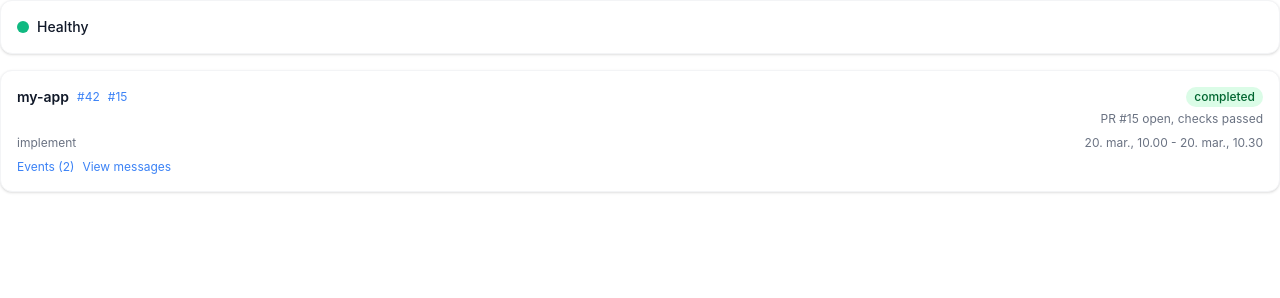
Test case: SchedulerTab › shows event timeline when events button is clicked
Click the button with test id "toggle-events" at (46, 167), box x1=17 y1=159 x2=74 y2=175
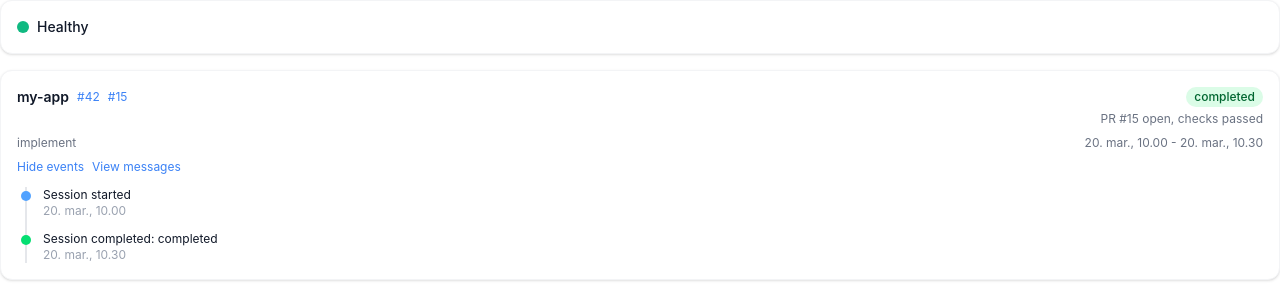
Now the number of elements with test id "timeline-event" is 2, box x1=43 y1=187 x2=131 y2=218; x1=43 y1=231 x2=218 y2=262
